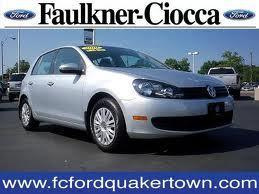Car: (17, 40, 240, 155), (204, 65, 247, 104), (4, 69, 36, 105)
